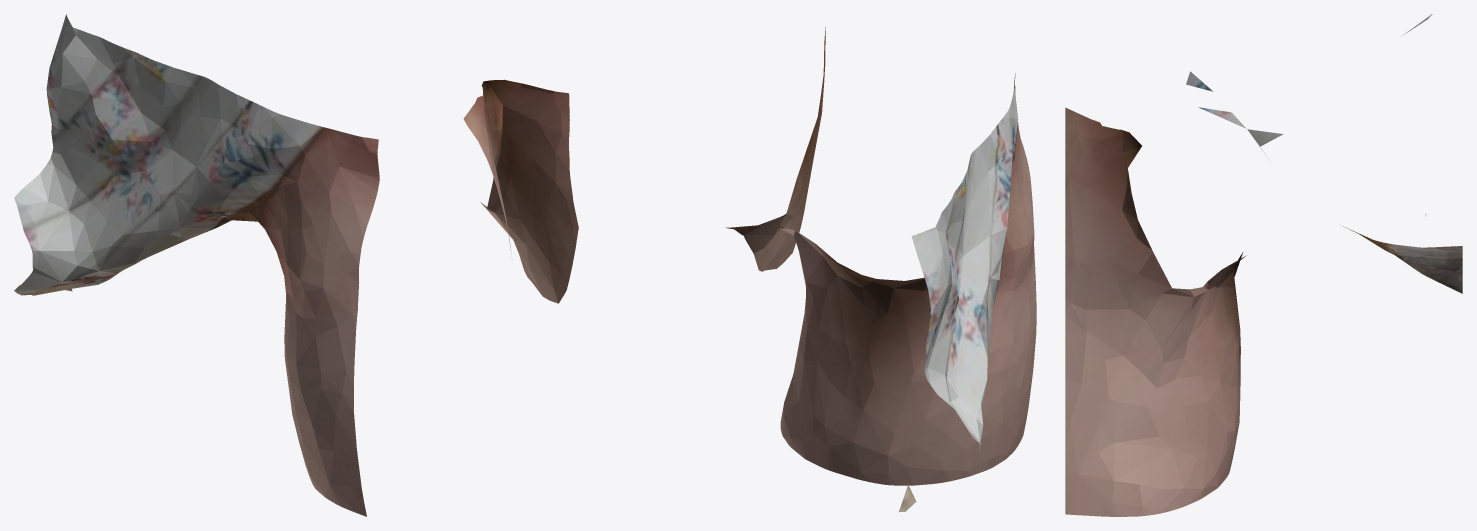
The picture shows the model from 3 angles, left to right: view 1: azimuth 30°, elevation 25°; view 2: azimuth 150°, elevation 25°; view 3: azimuth 270°, elevation 25°; orthographic projection. The views are drawn at different scales.
Size of the model in its own units: 171 by 171 by 171.
Materials: 1 (1 with a texture image).
